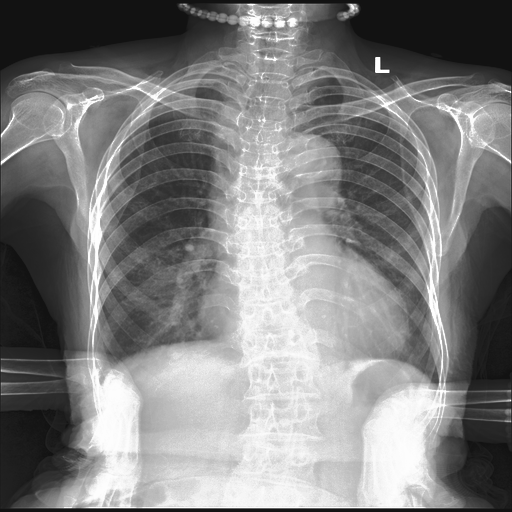Consolidation: (289, 132, 342, 194)
Nodule/Mass: (200, 273, 412, 358)
Other lesion: (210, 90, 240, 183)
Pleural thickening: (210, 90, 240, 183)
